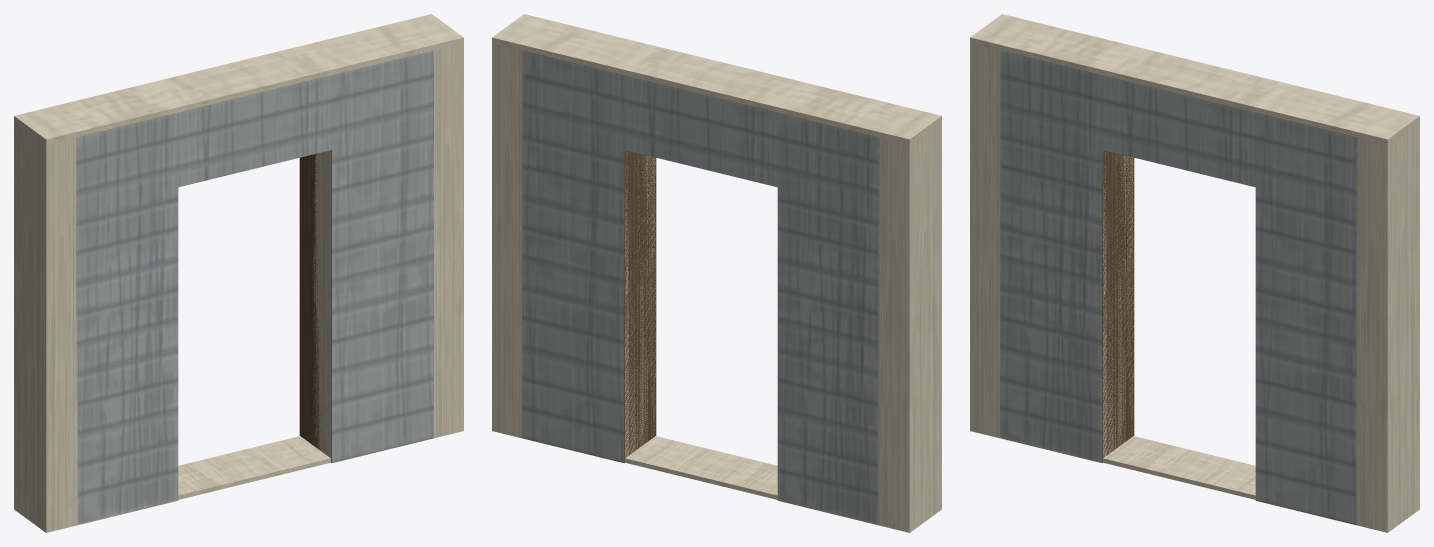
Rendered from house_02_wall_doorway.glb.
3 views of the same model, side by side, from view 1: azimuth 30°, elevation 25°; view 2: azimuth 150°, elevation 25°; view 3: azimuth 330°, elevation 25° (orthographic).
Visible parts, largest first — view 1: outdoor_house_02_wall_doorway; view 2: outdoor_house_02_wall_doorway; view 3: outdoor_house_02_wall_doorway.
Boxes of the visible parts, left/top/right/bottom form: outdoor_house_02_wall_doorway: left=14, top=14, right=463, bottom=532; outdoor_house_02_wall_doorway: left=492, top=14, right=941, bottom=532; outdoor_house_02_wall_doorway: left=970, top=14, right=1419, bottom=532.
Bounding box in the file's own units: 3 × 2.7 × 0.4.
1 material, 1 textured.
